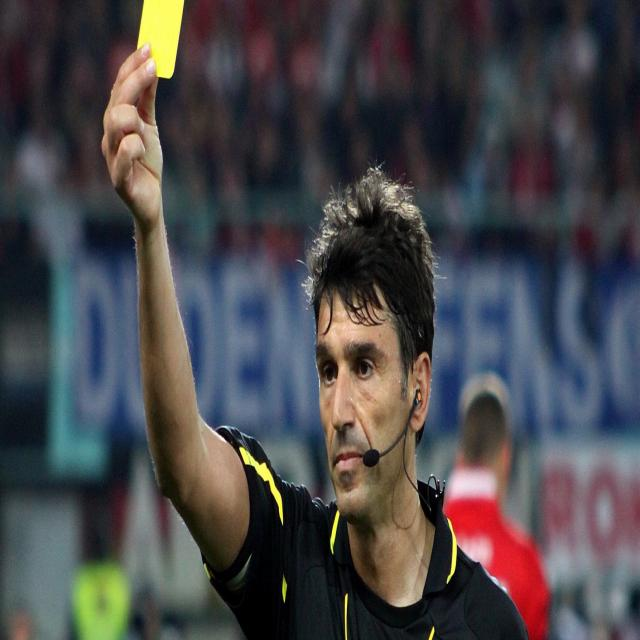yellow-card: (96, 2, 192, 232)
